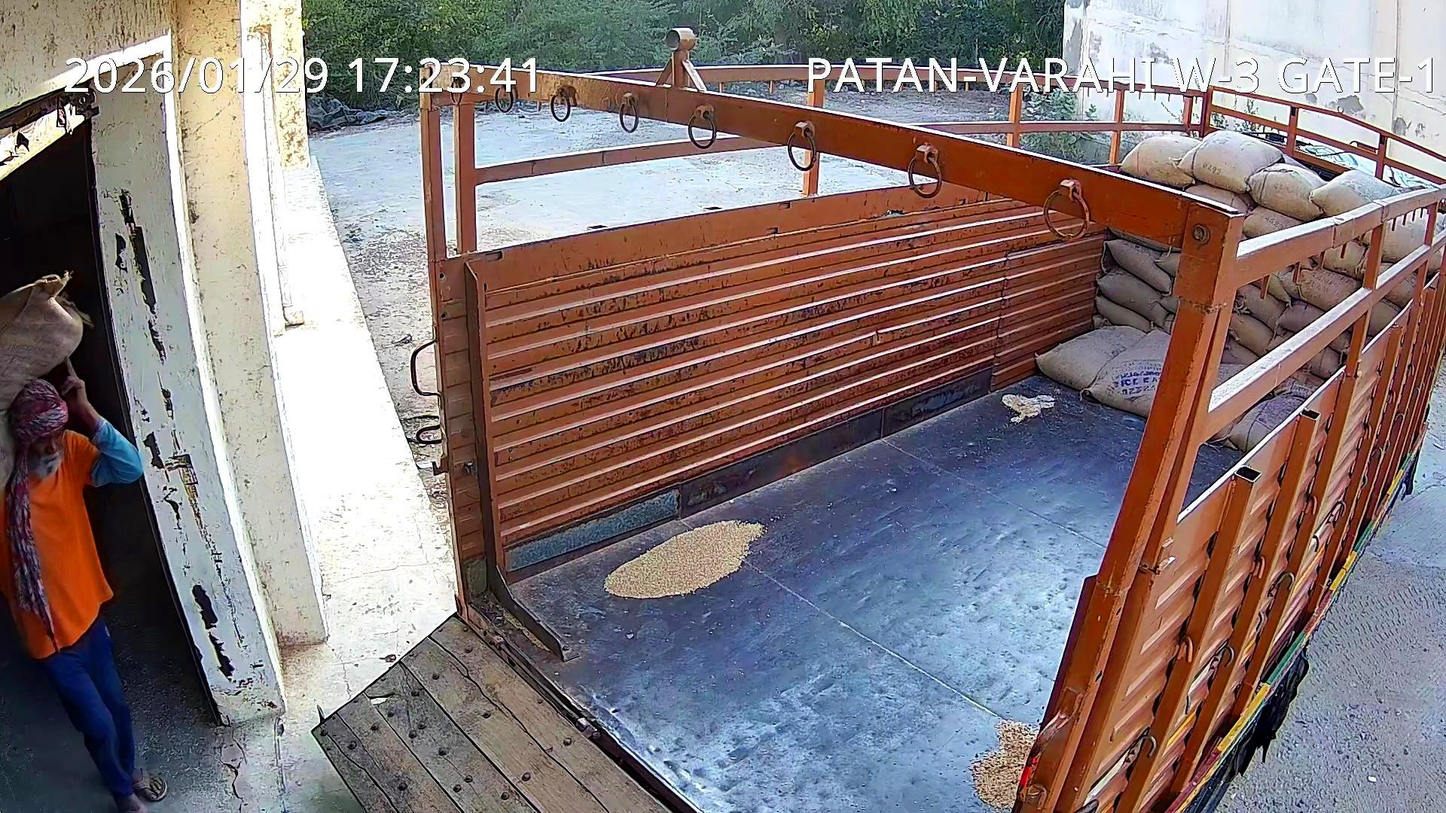Sack: (0, 273, 85, 418), (0, 422, 15, 477)
